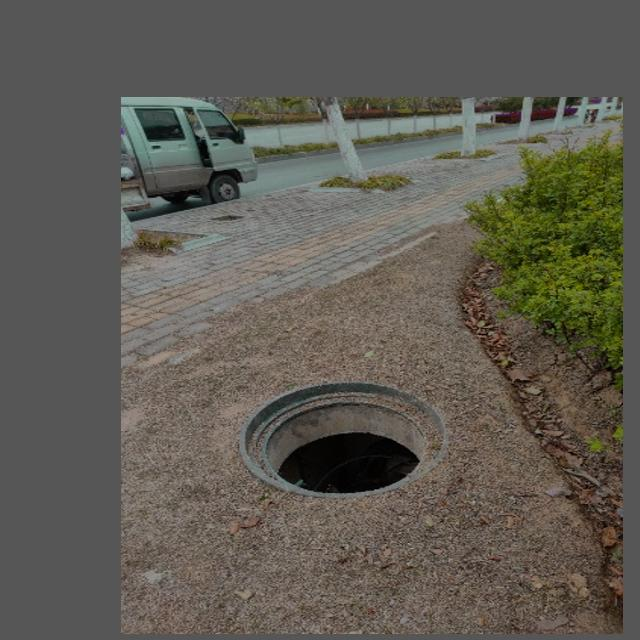lose: (239, 380, 447, 497)
